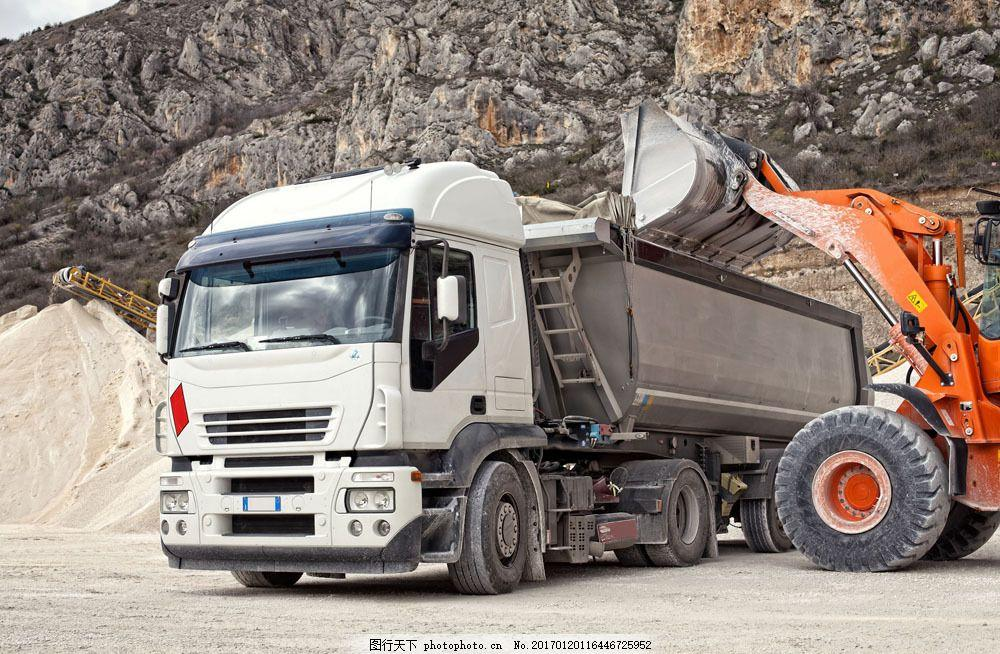truck: (143, 146, 906, 622)
